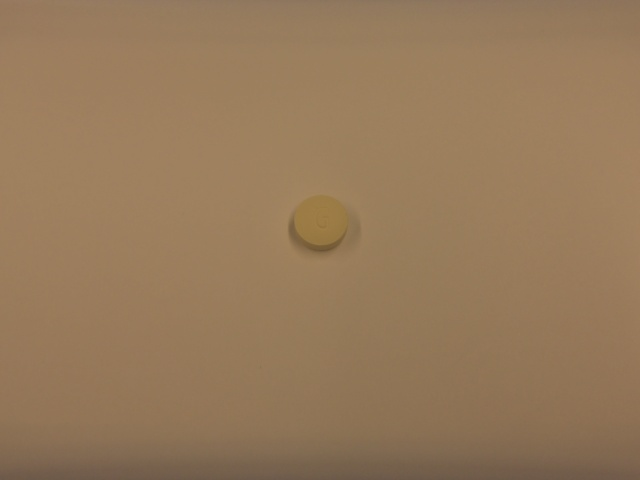G: (312, 203, 332, 231)
